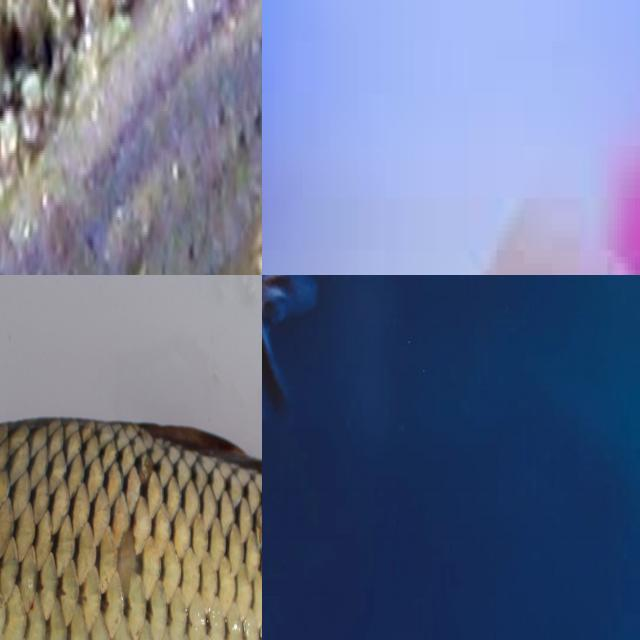fish: (262, 21, 640, 275), (262, 404, 640, 640), (0, 324, 262, 640), (0, 0, 262, 275)
